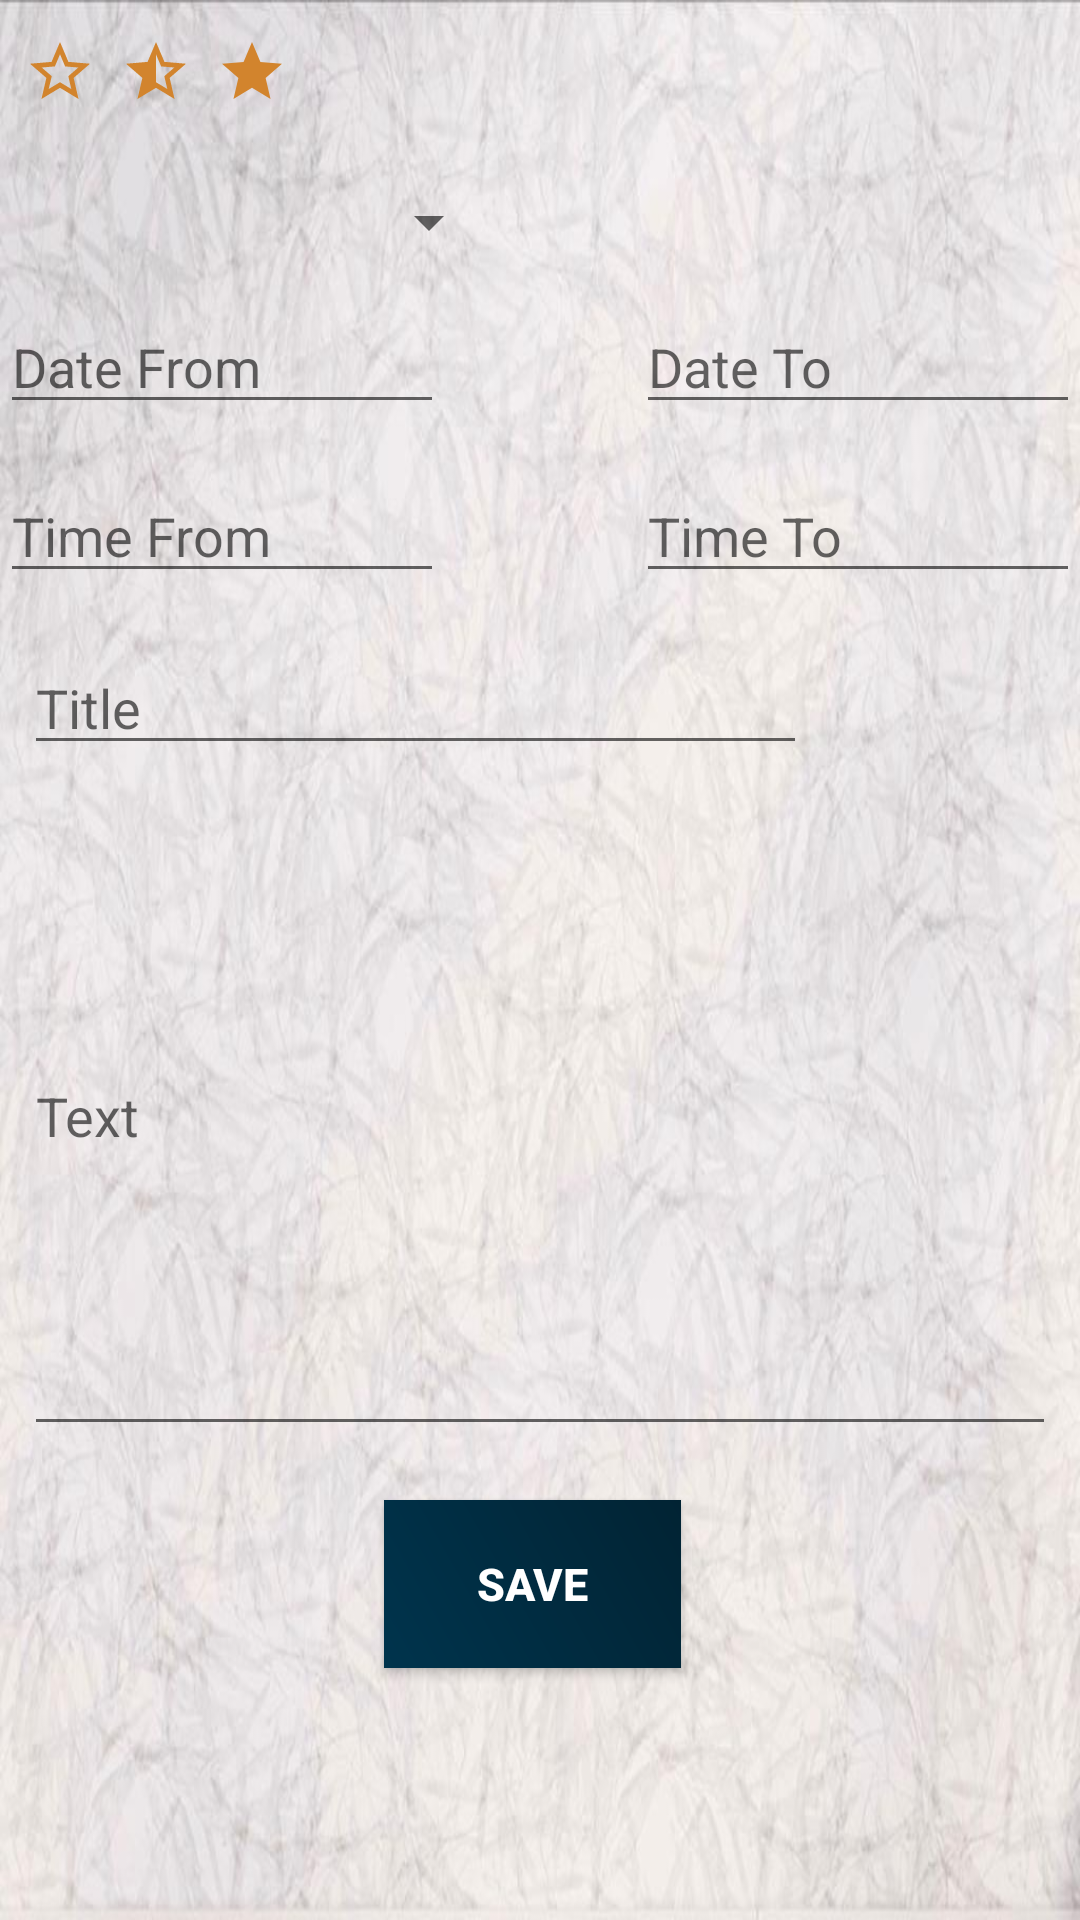

Named icons in this screenshot (1080x1920) and their bounding boxes, (x1, y1, x2, y2):
halbstern: (126, 42, 186, 100)
stern: (30, 43, 90, 99)
vollstern: (222, 42, 282, 99)
